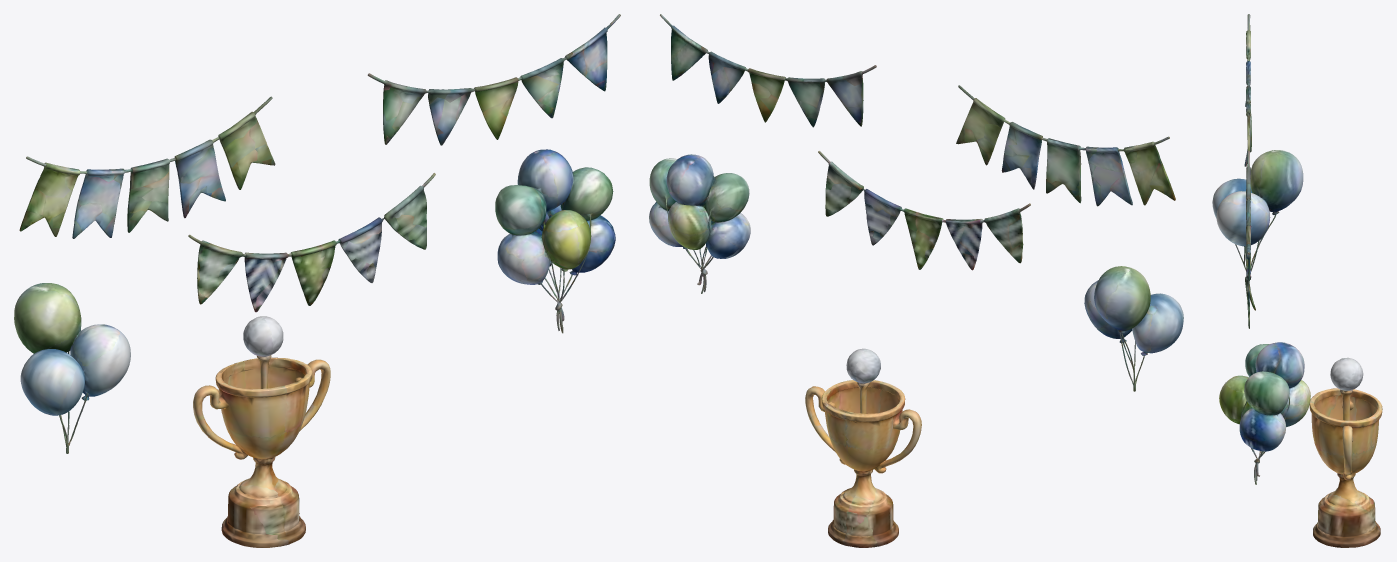
The picture shows the model from 3 angles, left to right: view 1: azimuth 30°, elevation 25°; view 2: azimuth 150°, elevation 25°; view 3: azimuth 270°, elevation 25°; orthographic projection. The views are drawn at different scales.
Parts seen in each view (by area): view 1: Mesh 5, Mesh 8, Mesh 1, Mesh 2, Mesh 4, Mesh 6; view 2: Mesh 5, Mesh 1, Mesh 8, Mesh 4, Mesh 2, Mesh 6; view 3: Mesh 5, Mesh 8, Mesh 2, Mesh 1, Mesh 6, Mesh 4.
Boxes of the visible parts, x1,y1,x2,y2 form: Mesh 5: (193, 316, 330, 547); Mesh 8: (495, 149, 615, 333); Mesh 1: (19, 96, 275, 238); Mesh 2: (14, 283, 130, 453); Mesh 4: (188, 173, 435, 312); Mesh 6: (367, 14, 620, 145); Mesh 5: (805, 348, 921, 547); Mesh 1: (956, 85, 1175, 206); Mesh 8: (649, 154, 750, 293); Mesh 4: (818, 151, 1030, 270); Mesh 2: (1084, 266, 1183, 391); Mesh 6: (660, 14, 876, 127); Mesh 5: (1309, 357, 1382, 547); Mesh 8: (1219, 342, 1310, 484); Mesh 2: (1212, 150, 1303, 280); Mesh 1: (1244, 14, 1251, 166); Mesh 6: (1246, 150, 1250, 306); Mesh 4: (1245, 189, 1255, 328).
Size of the model in its own units: 1.9 by 1.48 by 0.5694.
6 materials, 6 textured.
